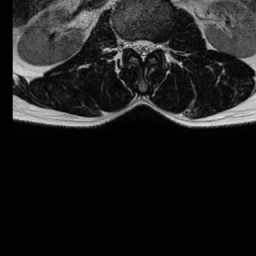CCS_normal: (138, 32, 148, 66)
LFS_normal: (156, 33, 163, 58)
LLS_normal: (148, 32, 156, 58)
RFS_normal: (123, 30, 131, 56)
RLS_normal: (131, 32, 138, 58)
